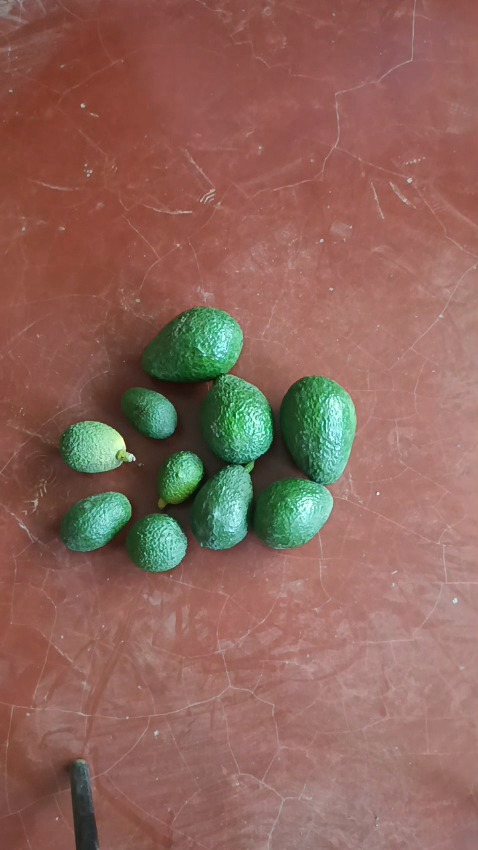Primera: (278, 376, 357, 484), (141, 307, 243, 381), (199, 374, 273, 464)
Segunda: (252, 478, 333, 549), (189, 464, 254, 549)
Tercera: (59, 491, 133, 552), (125, 513, 189, 571), (59, 420, 126, 473), (120, 388, 177, 440), (156, 450, 204, 506)
